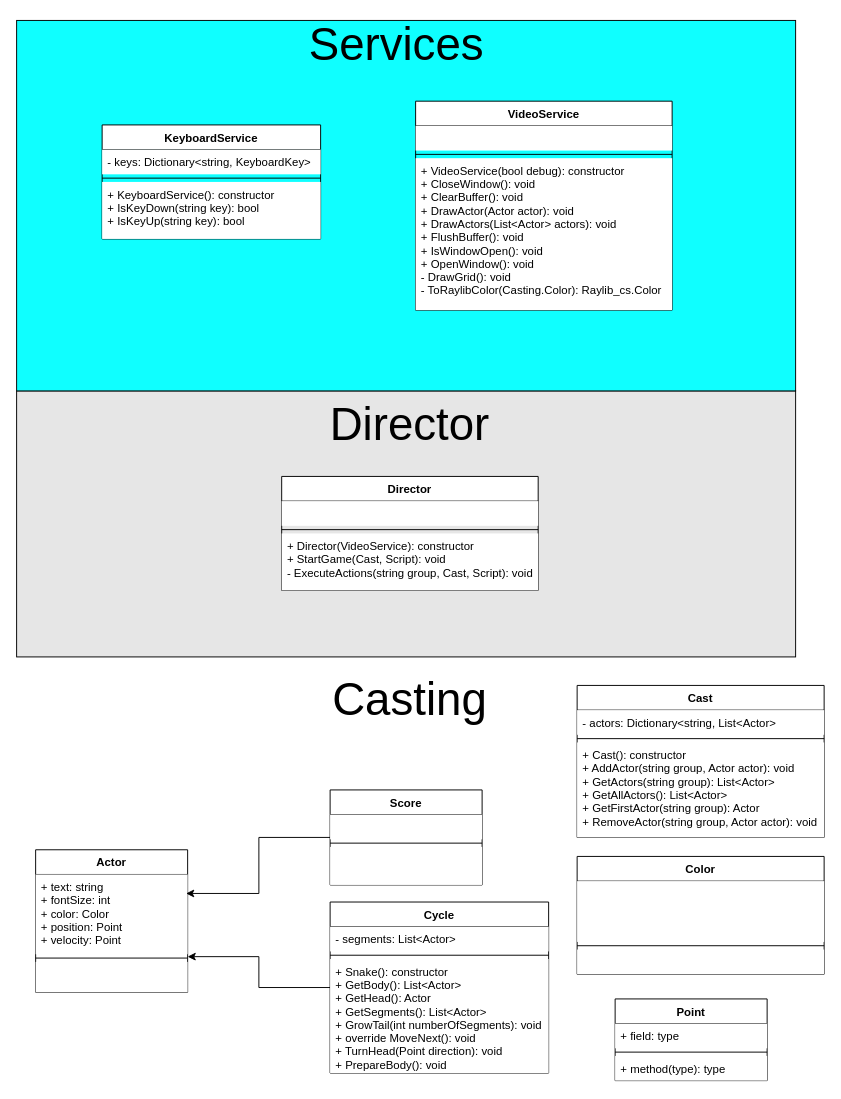
The diagram is 841 pixels wide and 1099 high, and some of its shapes have lost their labels. The centre of each missing label's shape, as x and y in pixels:
"+ Color(int red, int green, int blue): constructor" belongs at (700,961).
"+ red: int + green: int + blue: int + alpha: int" belongs at (700,911).
"+ Score(): constructor + AddPoints(int points): void" belongs at (406,865).
"+ virtual MoveNext(): void" belongs at (111,976).
"- debug: bool" belongs at (543,137).
"- points: int" belongs at (406,826).
"- videoService: VideoService" belongs at (409,513).
